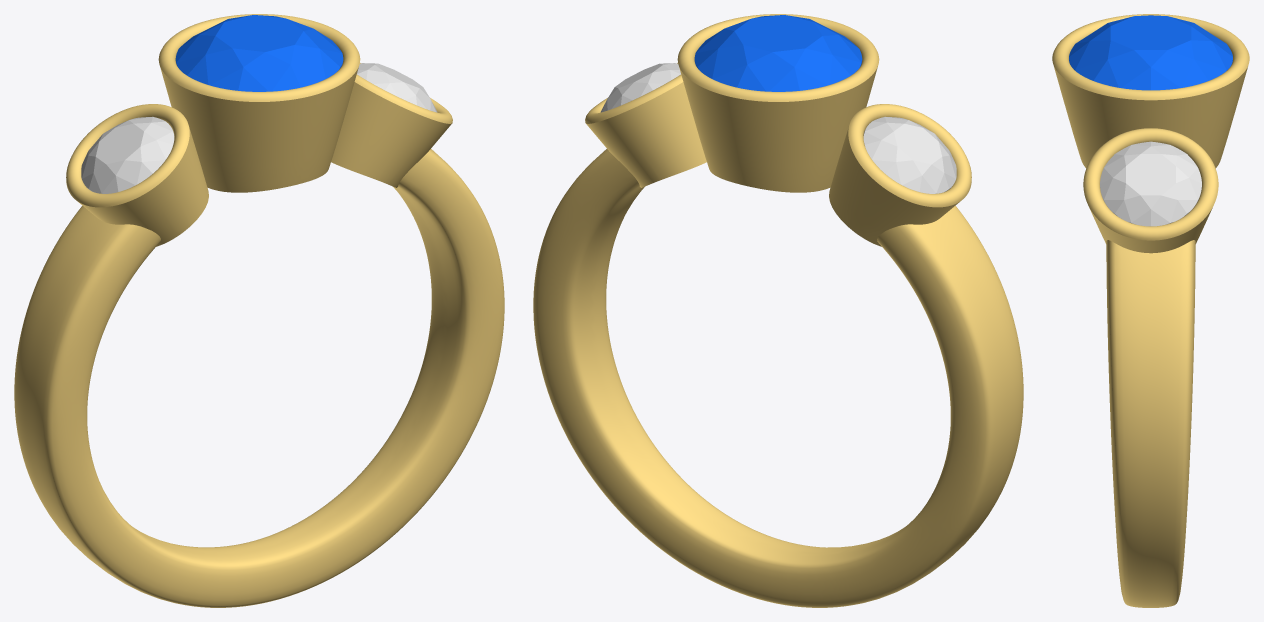
The model's file is bluesapphire-round-yellowgold-bezelset-straighttaperedband-2stone.glb.
3 views of the same model, side by side, from view 1: azimuth 30°, elevation 25°; view 2: azimuth 150°, elevation 25°; view 3: azimuth 270°, elevation 25° (orthographic). The views are drawn at different scales.
Visible parts, largest first — view 1: metal, stone, side, side.001; view 2: metal, stone, side, side.001; view 3: metal, stone, side.001.
Boxes of the visible parts, box(x1,y1,x2,y2) form: metal: box(14, 14, 504, 607); stone: box(175, 15, 343, 91); side: box(81, 116, 174, 193); side.001: box(357, 63, 437, 112); metal: box(533, 14, 1023, 607); stone: box(694, 15, 862, 91); side: box(863, 116, 956, 193); side.001: box(600, 63, 680, 112); metal: box(1052, 14, 1249, 607); stone: box(1069, 15, 1232, 90); side.001: box(1100, 141, 1201, 226).
Size of the model in its own units: 20.51 by 23.81 by 7.74.
